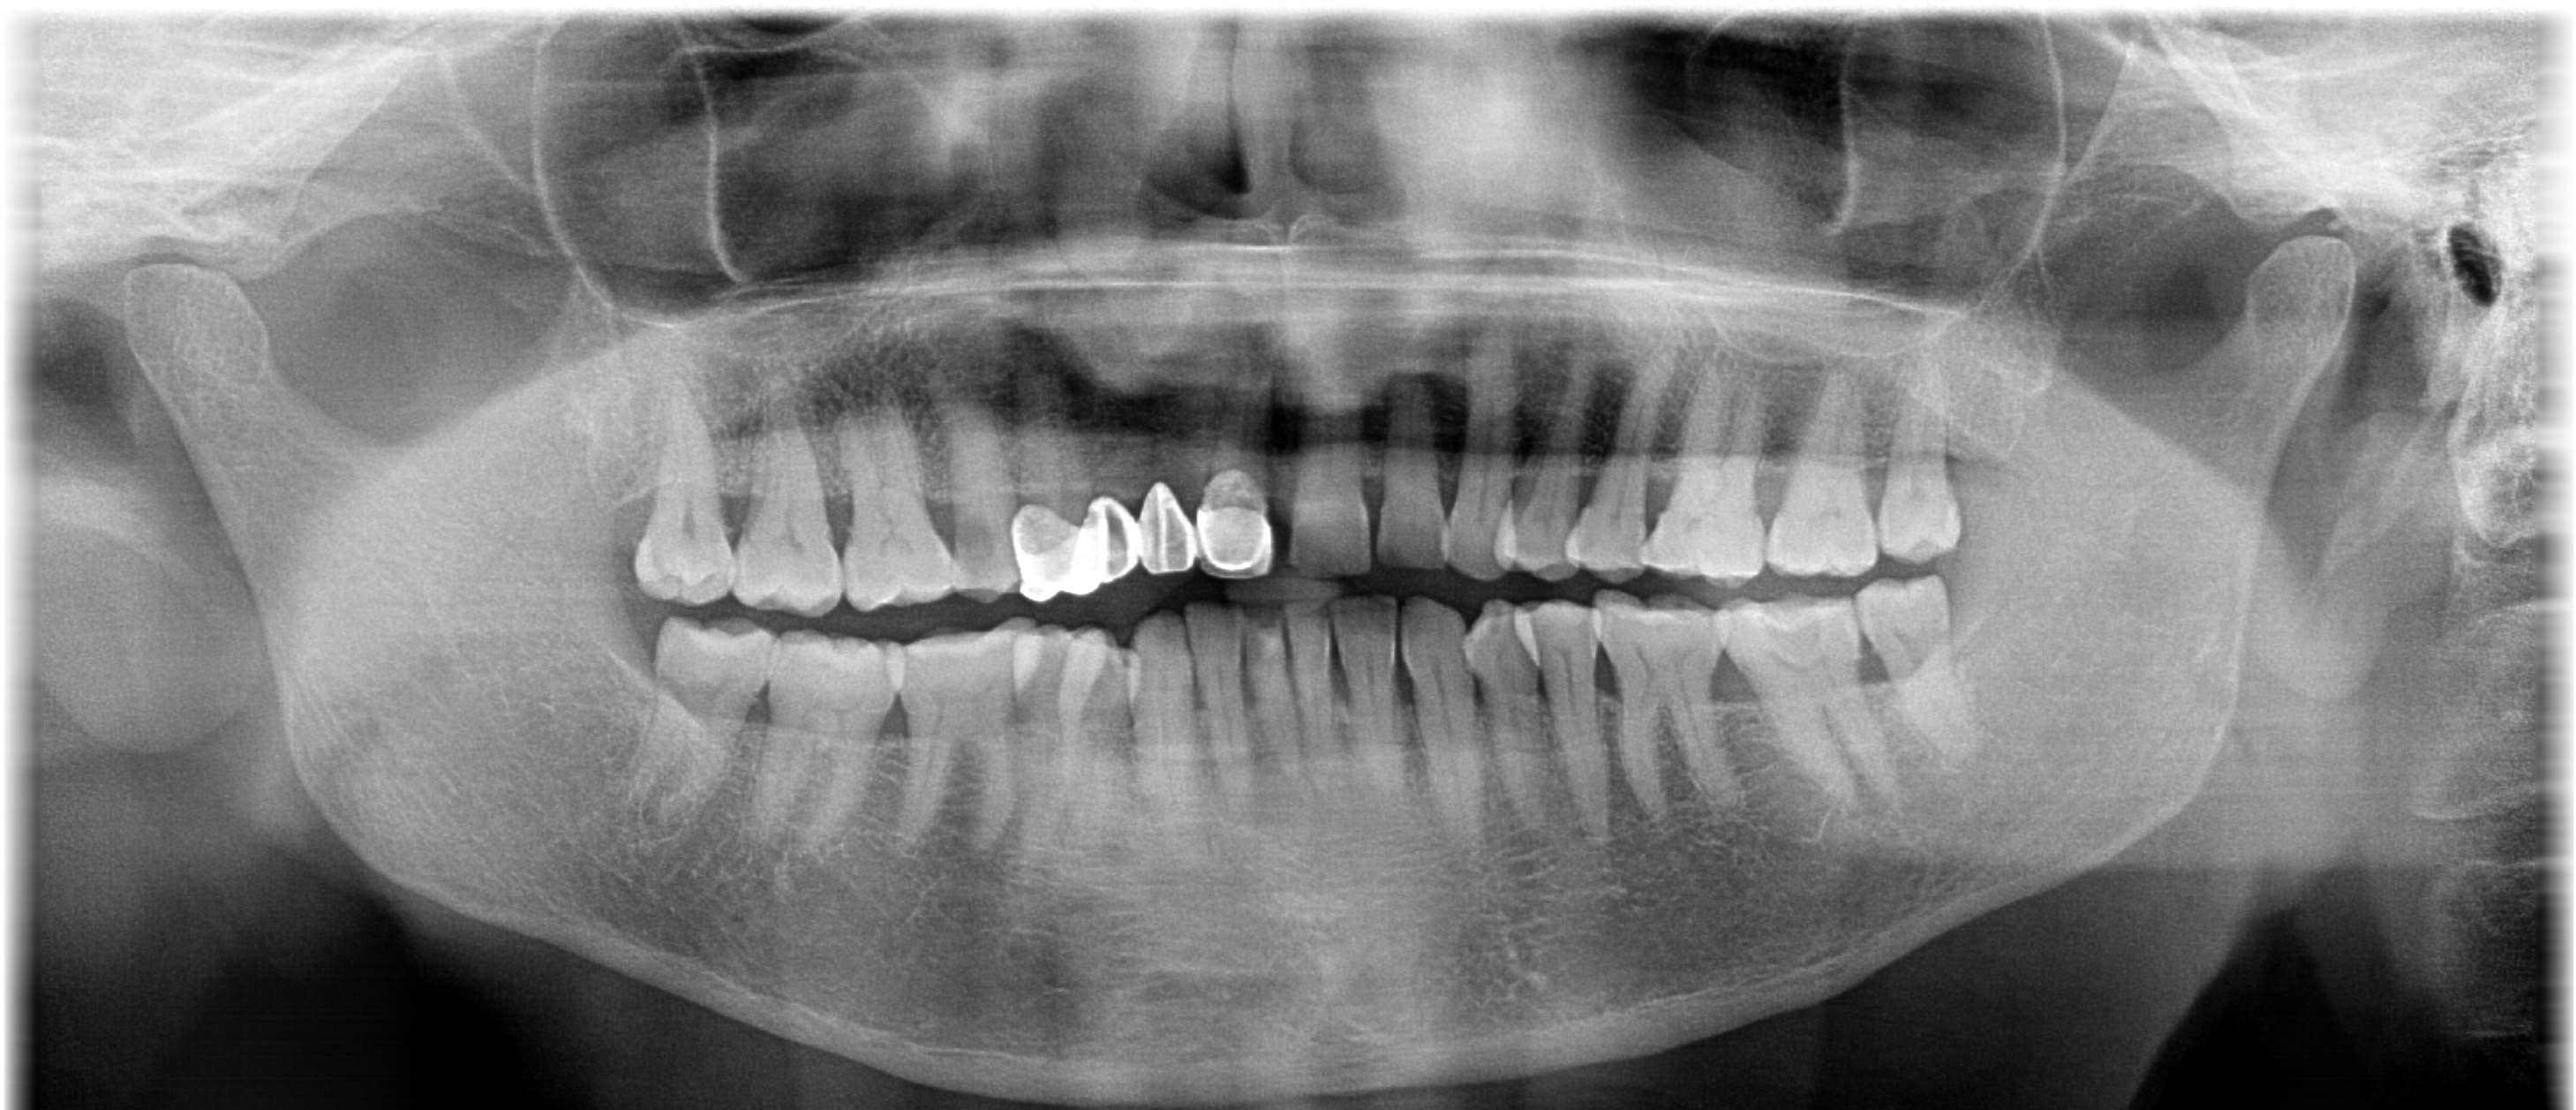apinamiento: (885, 607, 1244, 717)
cordal: (613, 602, 789, 817), (598, 388, 752, 631), (1847, 574, 2017, 771), (1852, 380, 2013, 574)
